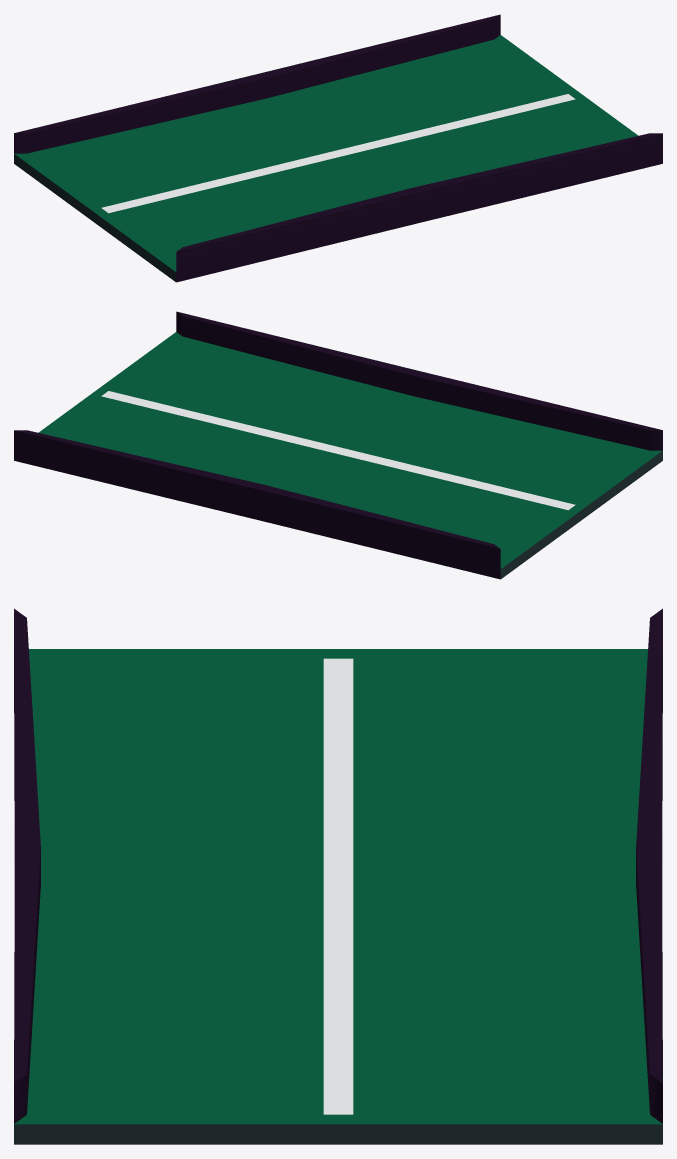
File: straight2.fbx
3 renders of one model, top to bottom at view 1: azimuth 30°, elevation 25°; view 2: azimuth 150°, elevation 25°; view 3: azimuth 270°, elevation 25°, orthographic. The views are drawn at different scales.
Parts seen in each view (by area): view 1: straight2; view 2: straight2; view 3: straight2.
Part boxes in pixels (x1=…): straight2: x1=14, y1=14, x2=662, y2=282; straight2: x1=14, y1=311, x2=662, y2=579; straight2: x1=14, y1=608, x2=662, y2=1144.
Bounding box in the file's own units: 50.01 × 3 × 28.88.
1 material, 1 textured.
